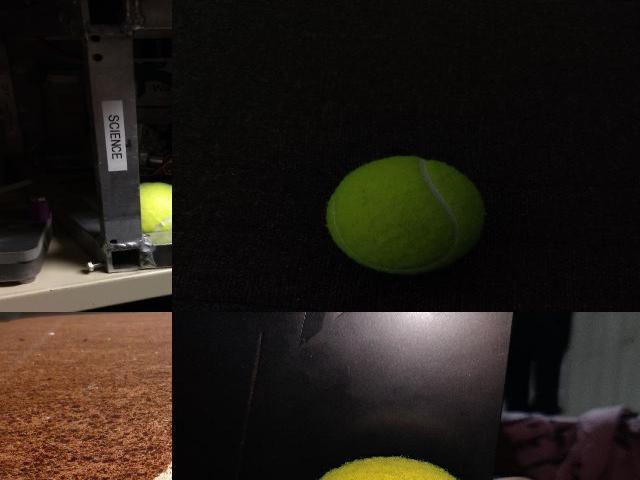tennis-ball: (324, 156, 486, 274), (142, 182, 171, 229)
